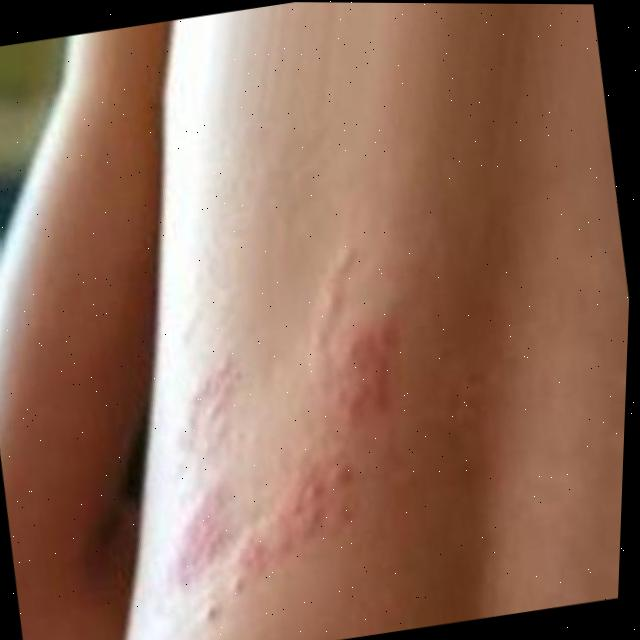Shingles: (143, 260, 437, 604)
